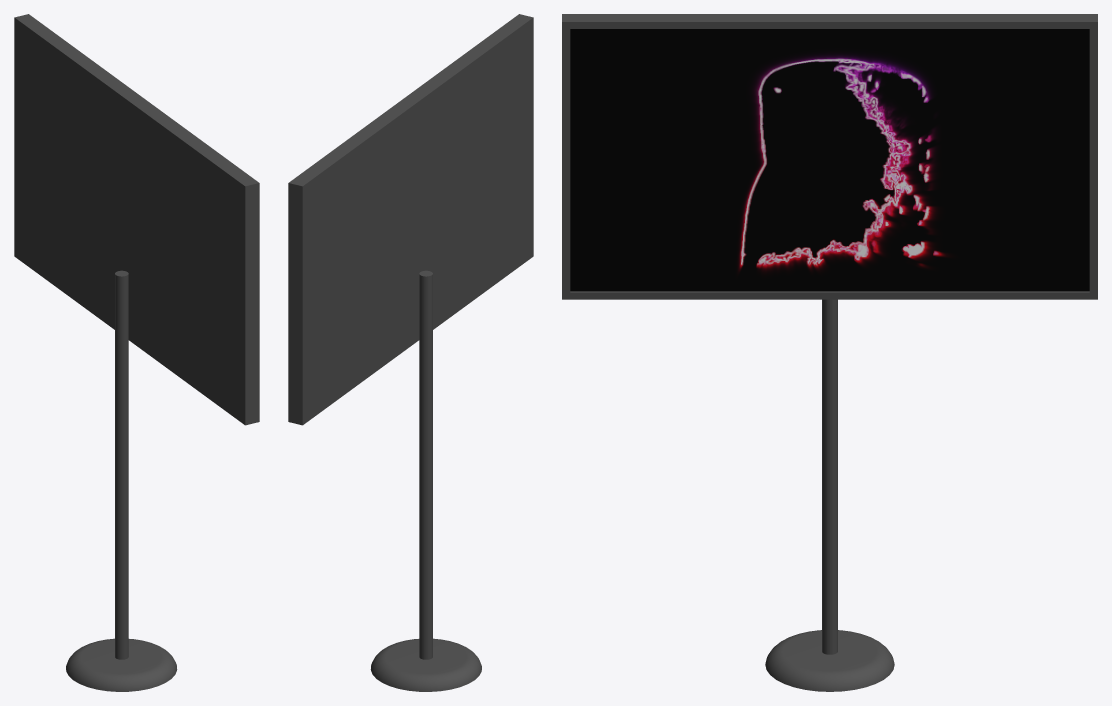
Rendered from Screen_ice.glb.
The picture shows the model from 3 angles, left to right: view 1: azimuth 30°, elevation 25°; view 2: azimuth 150°, elevation 25°; view 3: azimuth 270°, elevation 25°; orthographic projection. The views are drawn at different scales.
Parts seen in each view (by area): view 1: Cube.012, Cylinder.003, TV; view 2: Cube.012, Cylinder.003, TV; view 3: Cube.013, Cube.012, TV, Cylinder.003.
Part boxes in pixels (box(x1,y1,x2,y2)): Cube.012: box(14, 14, 259, 425); Cylinder.003: box(115, 270, 128, 659); TV: box(66, 638, 177, 691); Cube.012: box(288, 14, 533, 425); Cylinder.003: box(419, 270, 432, 659); TV: box(370, 638, 481, 691); Cube.013: box(570, 29, 1089, 291); Cube.012: box(562, 14, 1097, 299); TV: box(765, 630, 894, 691); Cylinder.003: box(822, 299, 837, 654).
Size of the model in its own units: 0.2923 by 1.63 by 1.21.
Materials: 2 (1 with a texture image).
